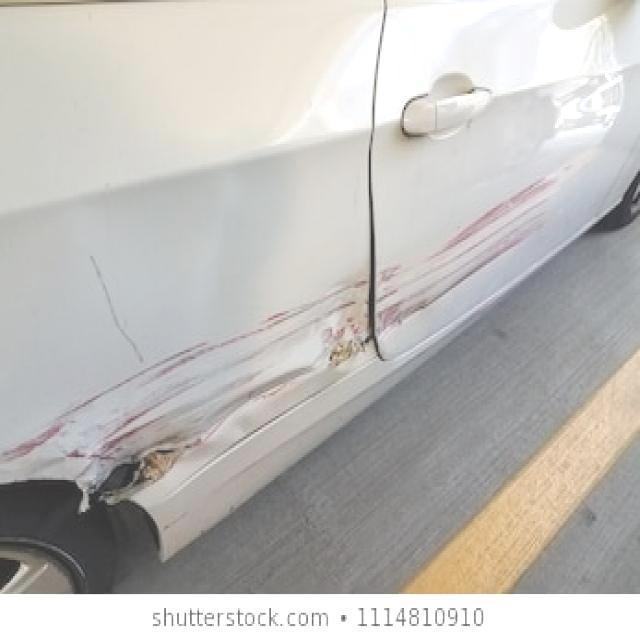minor: (84, 250, 155, 370), (82, 438, 197, 511)
moderate: (2, 306, 309, 481), (376, 172, 559, 326), (300, 289, 366, 365)
